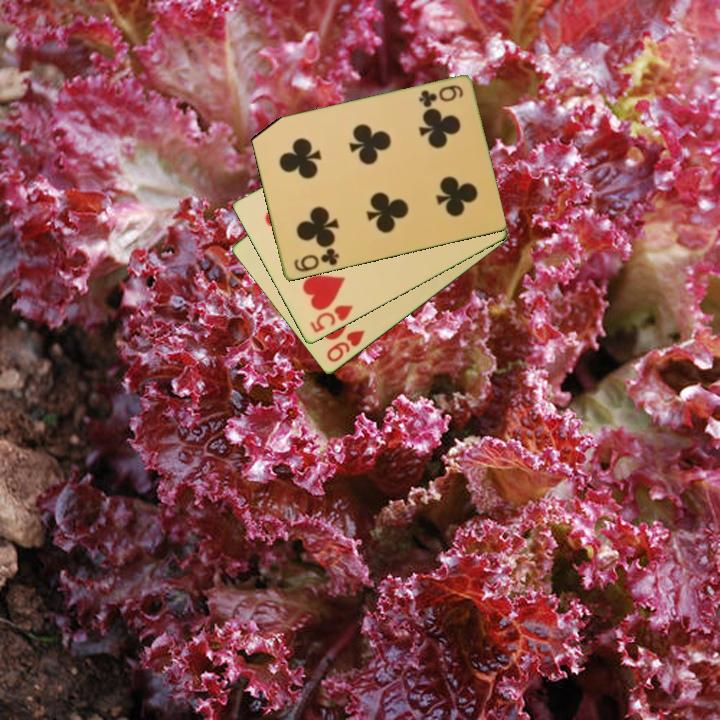5h: (306, 302, 356, 336)
6c: (290, 245, 342, 275), (415, 82, 466, 110)
9h: (323, 327, 367, 366)
